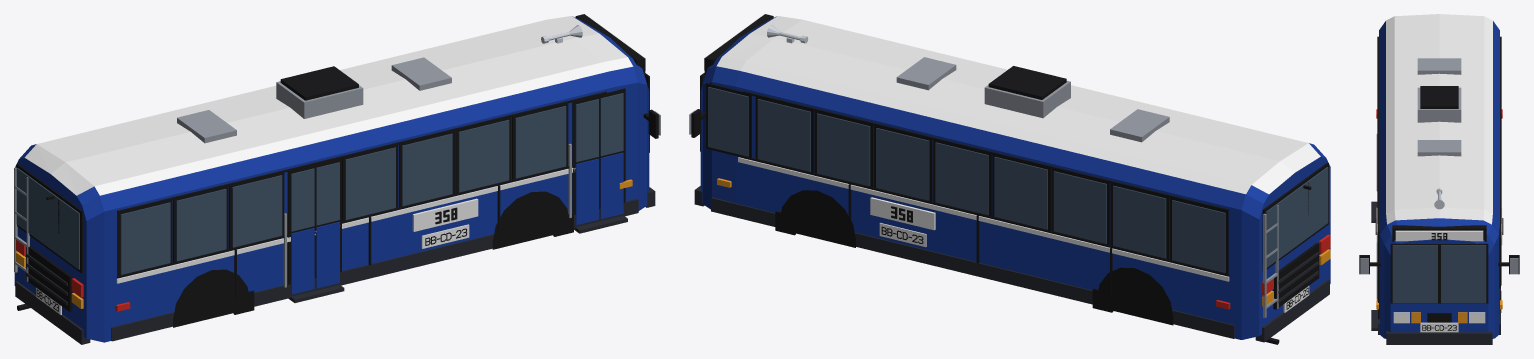
Rendered from micro_azul_body.obj.
The picture shows the model from 3 angles, left to right: view 1: azimuth 30°, elevation 25°; view 2: azimuth 150°, elevation 25°; view 3: azimuth 270°, elevation 25°; orthographic projection. The views are drawn at different scales.
Visible parts, largest first — view 1: micro_azul_body; view 2: micro_azul_body; view 3: micro_azul_body.
Boxes of the visible parts, bbox=[...] form: micro_azul_body: bbox=[14, 14, 660, 344]; micro_azul_body: bbox=[689, 14, 1330, 344]; micro_azul_body: bbox=[1359, 14, 1519, 344].
Bounding box in the file's own units: 10.8 × 3.2 × 3.32.
